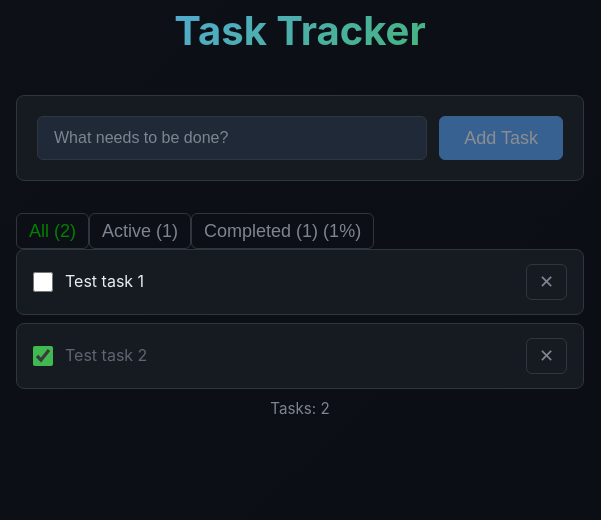
Test case: App Component › Error Handling › displays error when delete task fails
Expected: the text "Test task 1" is shown, [65,271,144,291]
What coordinates should you click on to do the following:
click the button "✕" in the row of "Test task 1"
I would click on:
 (546, 282)
Its box is [526,264,567,300].
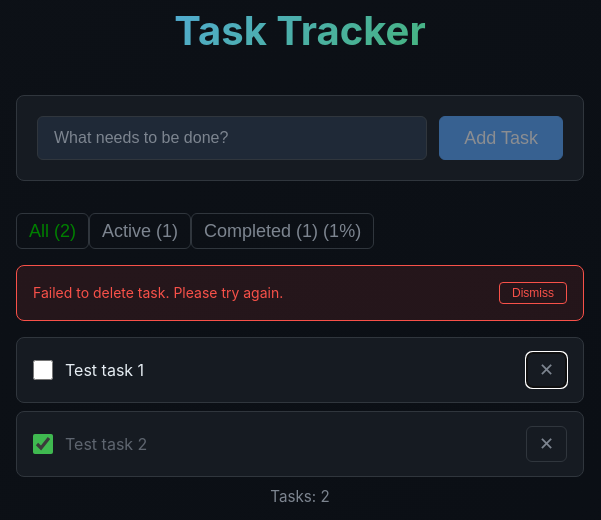
Expected: the text "Failed to delete task. Please try again." is shown, [33,282,283,304]
